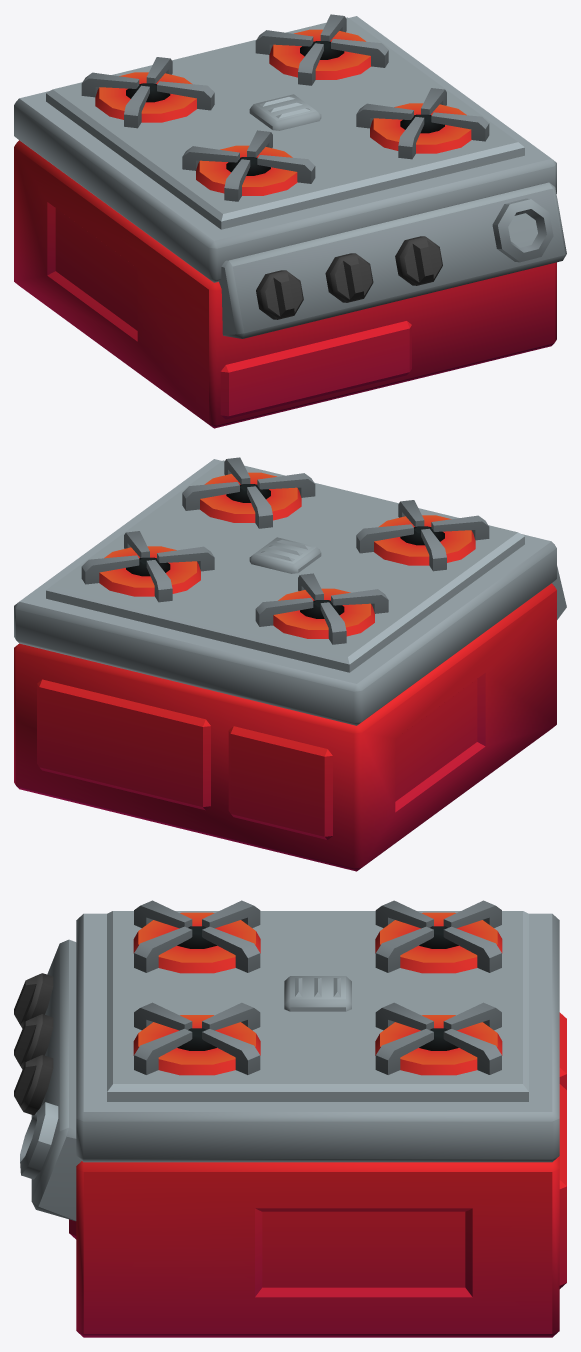
Rendered from stove_multi.glb.
3 views of the same model, one above another, from view 1: azimuth 30°, elevation 25°; view 2: azimuth 150°, elevation 25°; view 3: azimuth 270°, elevation 25° (orthographic). The views are drawn at different scales.
Visible parts, largest first — view 1: stove_multi; view 2: stove_multi; view 3: stove_multi.
Part boxes in pixels (x1=…): stove_multi: x1=14, y1=14, x2=566, y2=428; stove_multi: x1=14, y1=457, x2=566, y2=871; stove_multi: x1=14, y1=900, x2=566, y2=1337.
Size of the model in its own units: 2 by 1.2 by 2.29.
1 material, 1 textured.
